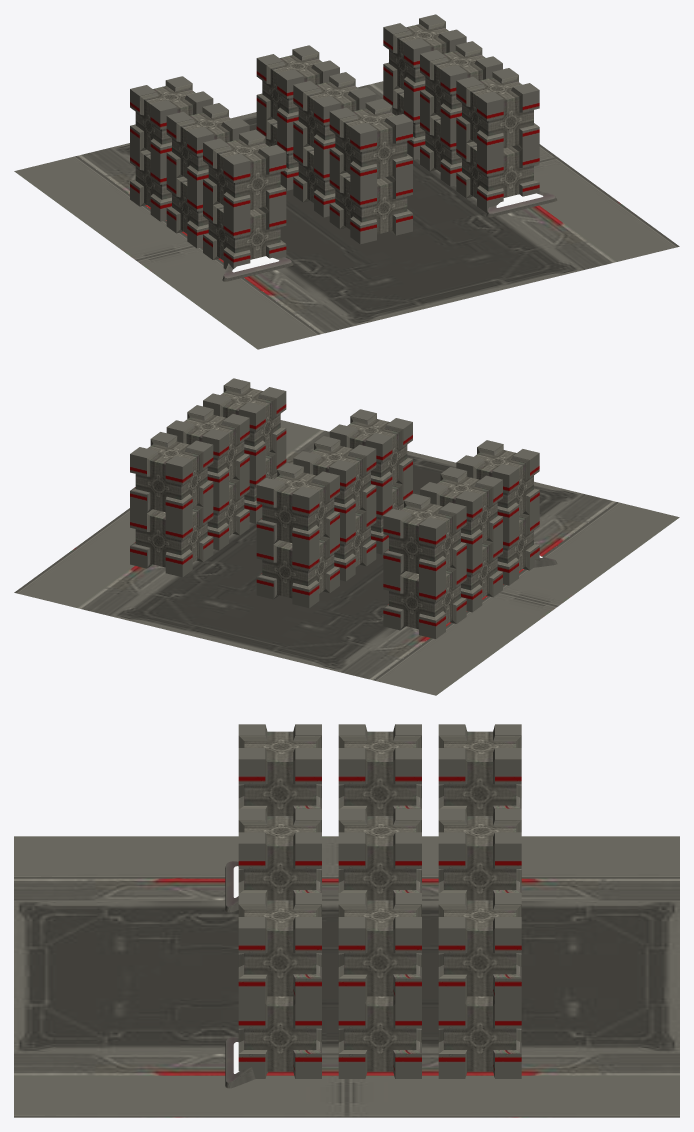
File: cubicle-farm.glb
3 views of the same model, one above another, from view 1: azimuth 30°, elevation 25°; view 2: azimuth 150°, elevation 25°; view 3: azimuth 270°, elevation 25° (orthographic). The views are drawn at different scales.
Visible parts, largest first — view 1: Prop_Crate3 (×18), Platform_CenterPlate, Prop_Light_Floor (×2); view 2: Prop_Crate3 (×18), Platform_CenterPlate; view 3: Platform_CenterPlate, Prop_Crate3 (×12), Prop_Light_Floor (×2).
Part boxes in pixels (left/top/right/bottom): Prop_Crate3 (×18): left=130, top=14, right=539, bottom=269; Platform_CenterPlate: left=14, top=81, right=679, bottom=349; Prop_Light_Floor (×2): left=222, top=190, right=557, bottom=281; Prop_Crate3 (×18): left=130, top=378, right=539, bottom=638; Platform_CenterPlate: left=14, top=420, right=679, bottom=695; Platform_CenterPlate: left=14, top=836, right=679, bottom=1117; Prop_Crate3 (×12): left=238, top=724, right=521, bottom=1078; Prop_Light_Floor (×2): left=225, top=861, right=267, bottom=1088.
Size of the model in its own units: 8 by 2 by 8.
Materials: 3 (2 with a texture image).
